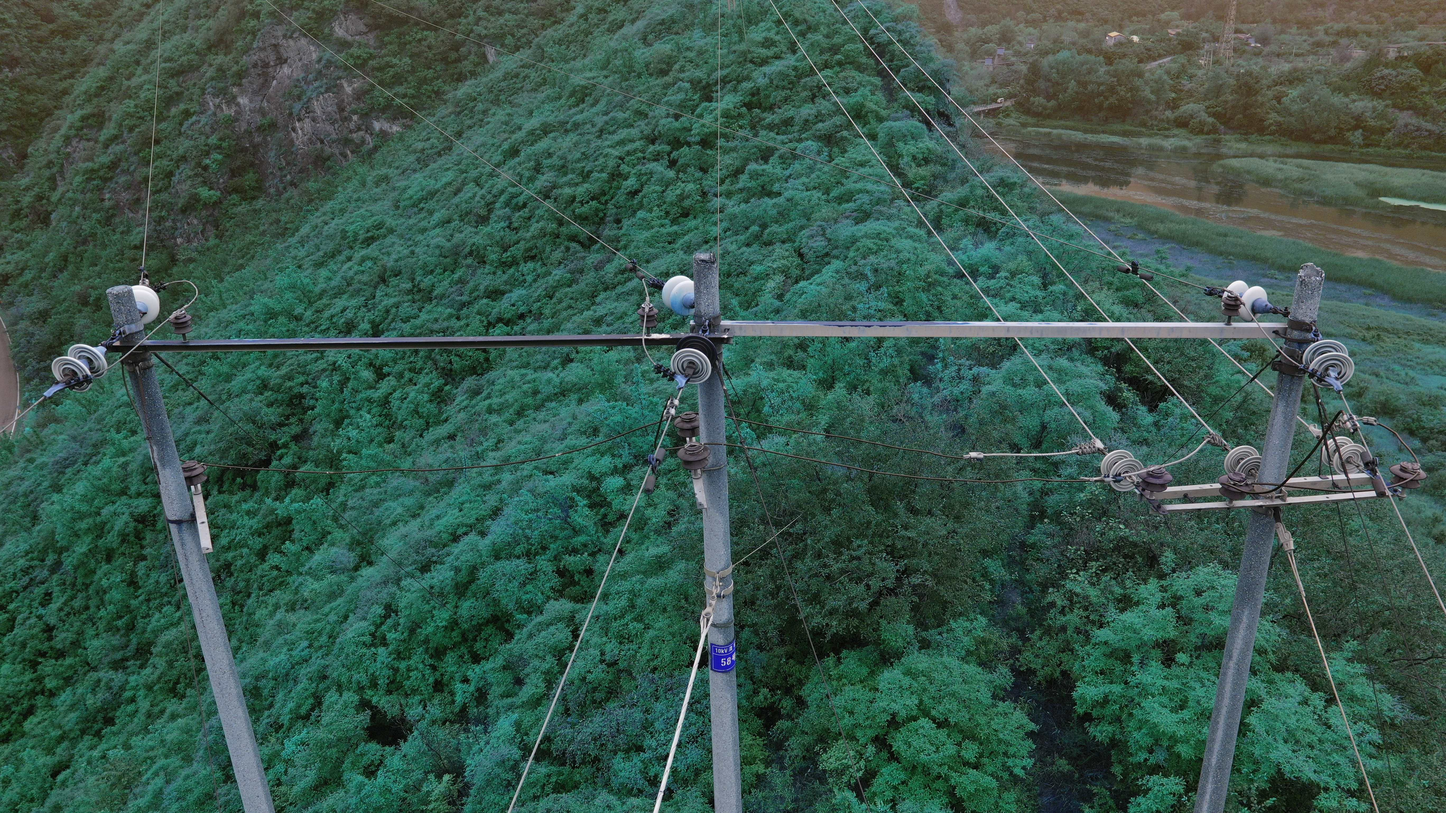severe_soiling_no_discharge_whole: (50, 339, 110, 393), (1300, 338, 1356, 389), (670, 348, 713, 385), (660, 274, 694, 317)
